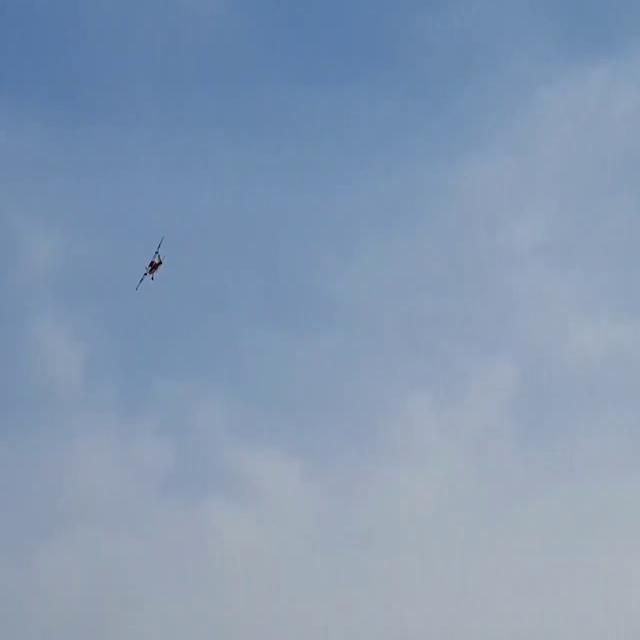iha: (135, 230, 165, 283)
